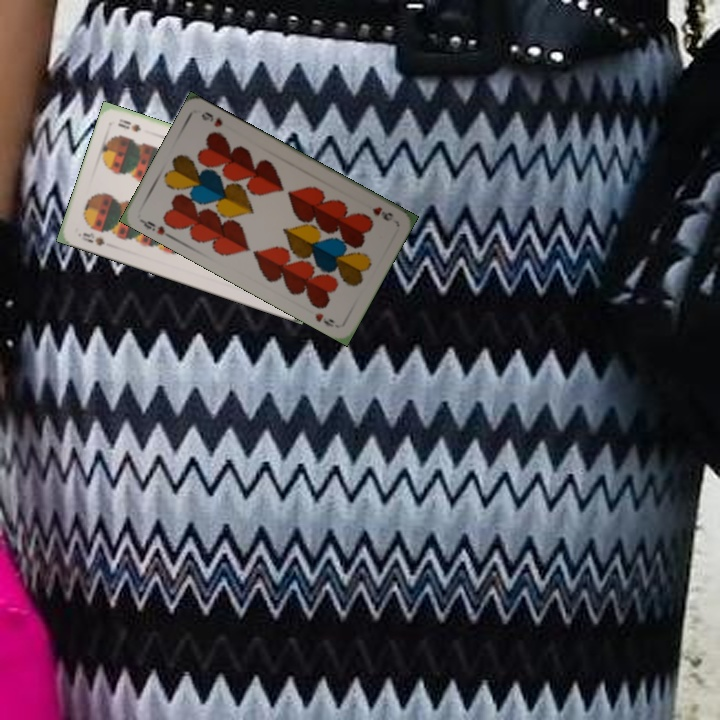H9: (136, 215, 174, 241), (368, 203, 395, 224)
S8: (78, 228, 107, 248)
